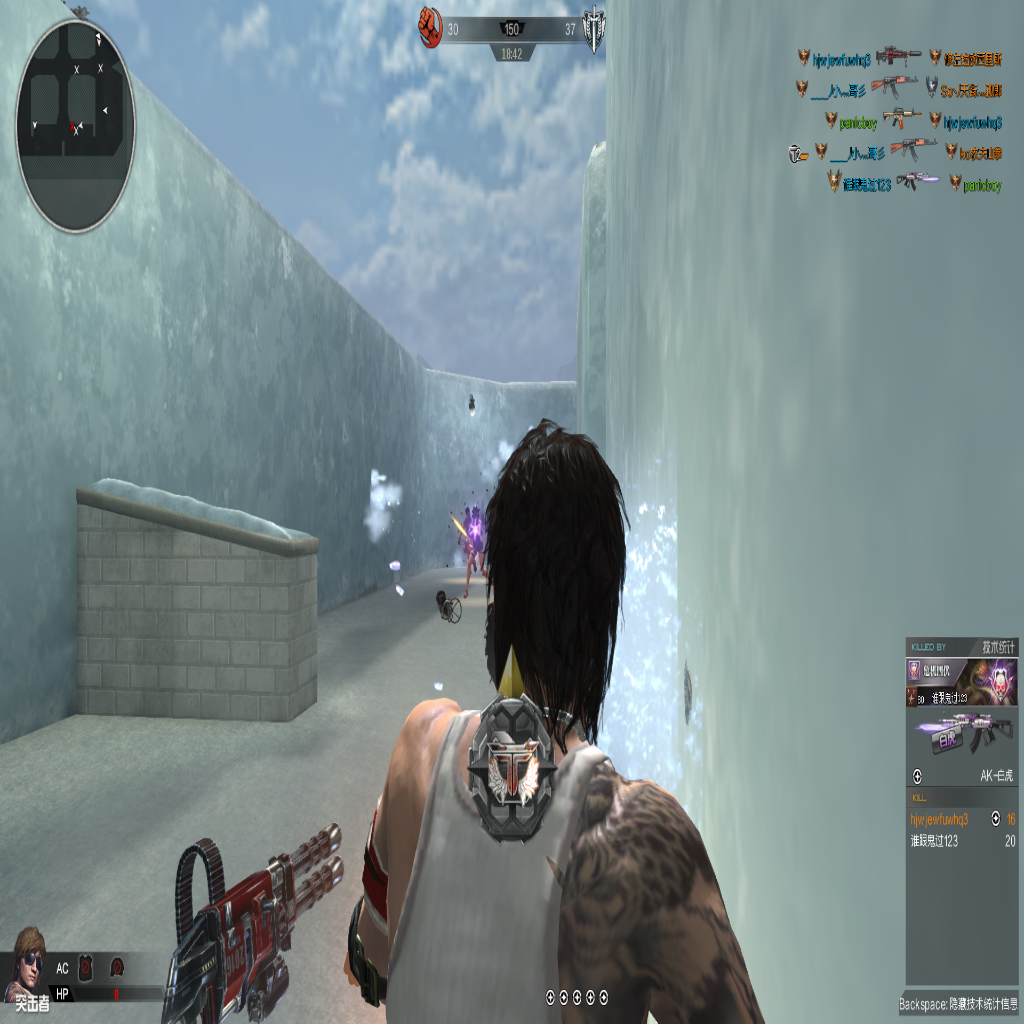ct: (467, 509, 484, 596)
